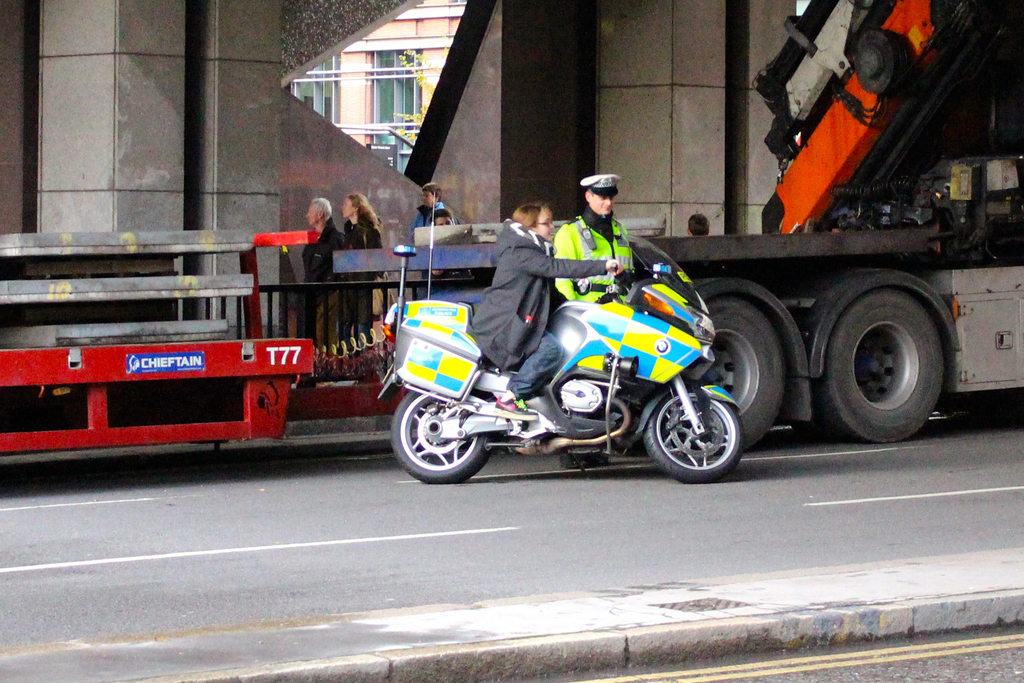Motorcycle: (376, 194, 745, 485)
